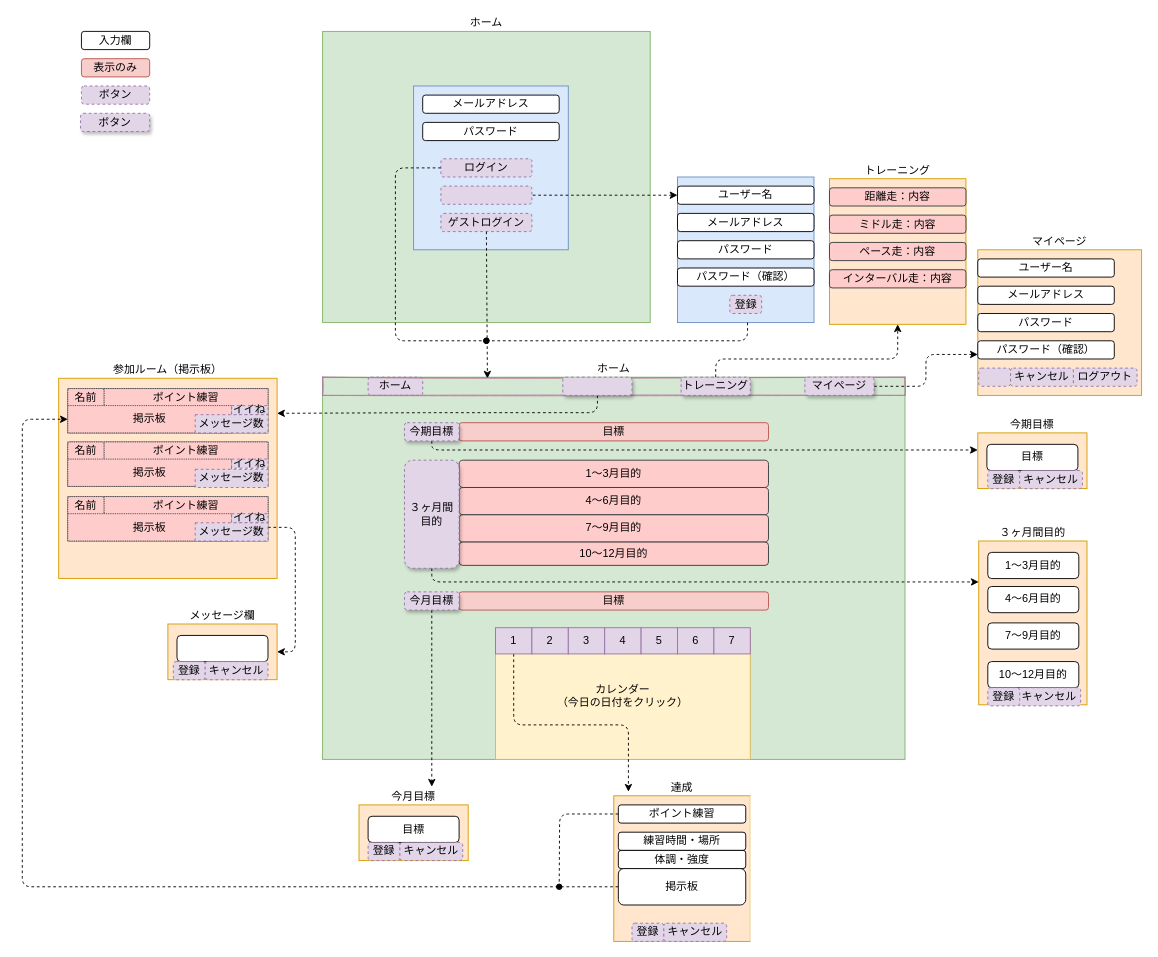
Image size: 1158x957. Some labels were removed from this diagram. Each missing label, with the centre of its shape:
カレンダーの日付をクリックすると、その日の達成ウィンドーが開き4項目を入力。その内ポイント練習と掲示板は参加ルームに表示。 4項目については、その日付に格納。: [868,868]
メッセージ: [222,648]
参加ルーム: [597,387]
新規ログイン: [486,194]
更新: [994,376]
